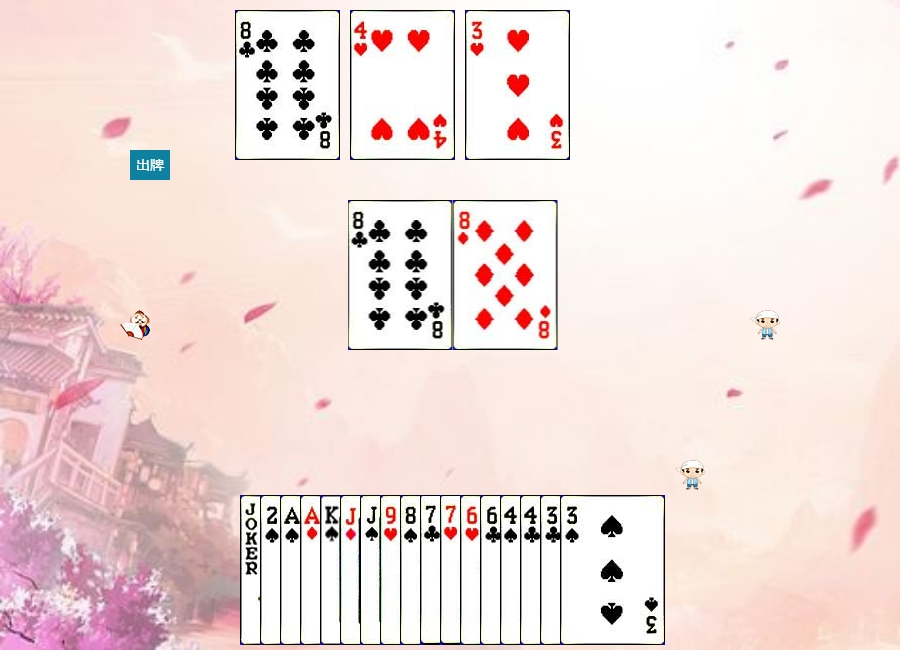11~1: (340, 495, 445, 645)
11~4: (360, 495, 465, 645)
13~4: (320, 495, 425, 645)
14~1: (300, 495, 405, 645)
14~4: (280, 495, 385, 645)
15~4: (260, 495, 365, 645)
17~3: (240, 495, 345, 645)
3~2: (540, 495, 645, 645)
3~3: (465, 10, 570, 160)
3~4: (560, 495, 665, 645)
4~2: (520, 495, 625, 645)
4~3: (350, 10, 455, 160)
4~4: (500, 495, 605, 645)
6~2: (480, 495, 585, 645)
6~3: (460, 495, 565, 645)
7~2: (420, 495, 525, 645)
7~3: (440, 495, 545, 645)
8~1: (453, 200, 558, 350)
8~2: (235, 10, 340, 160), (348, 200, 453, 350)
8~4: (400, 495, 505, 645)
9~3: (380, 495, 485, 645)
